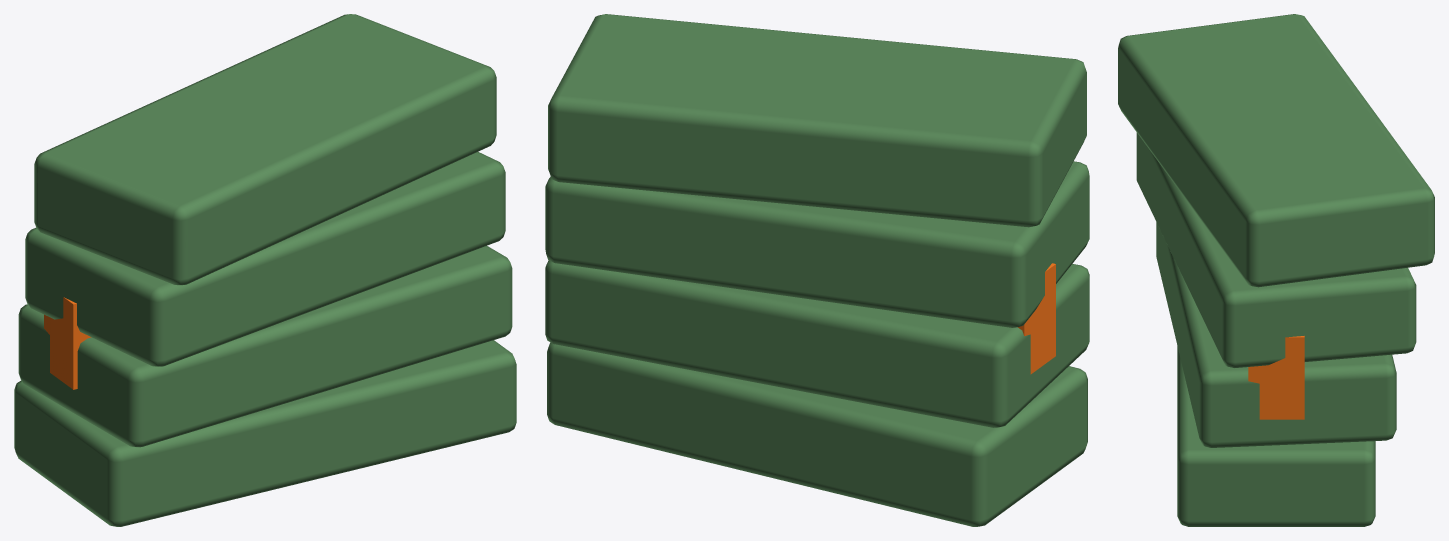
The model's file is l_cash_stack.glb.
3 renders of one model, left to right at view 1: azimuth 30°, elevation 25°; view 2: azimuth 150°, elevation 25°; view 3: azimuth 270°, elevation 25°, orthographic. The views are drawn at different scales.
Visible parts, largest first — view 1: cash_stack; view 2: cash_stack; view 3: cash_stack.
Part boxes in pixels (<box>): cash_stack: <box>14,14,516,526</box>; cash_stack: <box>545,14,1089,526</box>; cash_stack: <box>1118,14,1434,526</box>.
Bounding box in the file's own units: 0.1712 × 0.126 × 0.1118.
